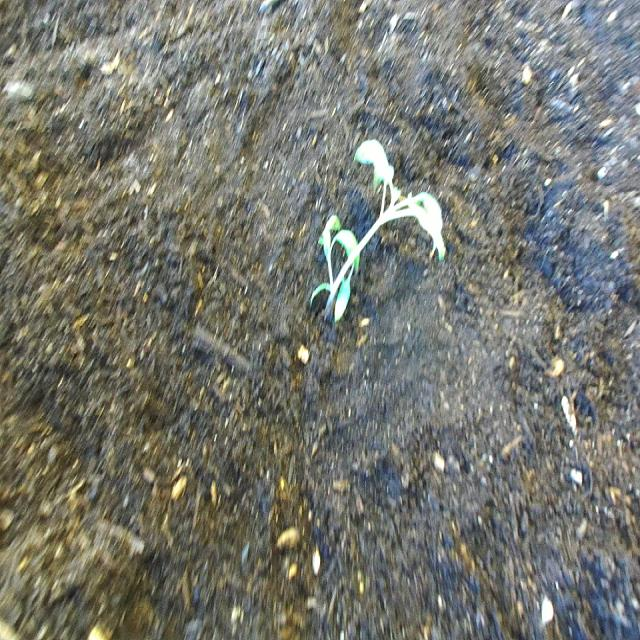Healthy: (308, 119, 454, 351)
